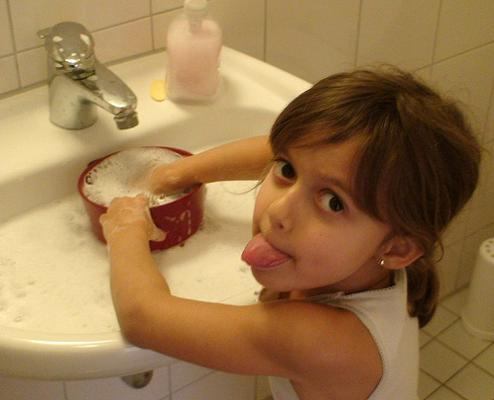person: (113, 59, 482, 400)
